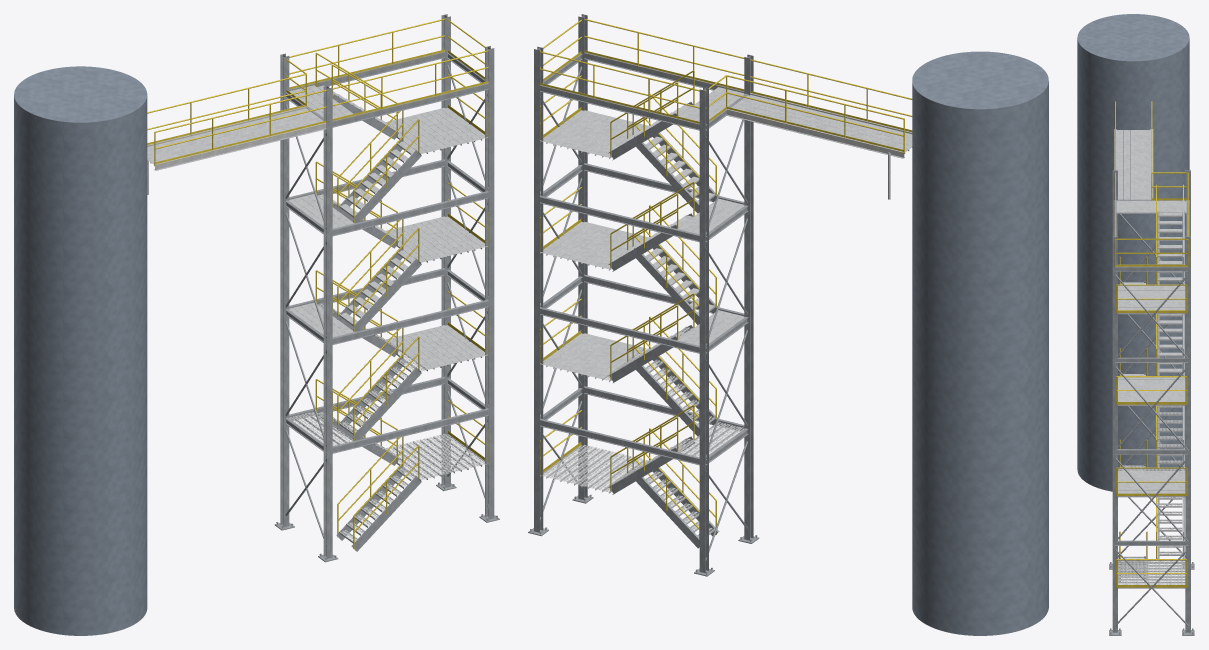
File: stair-towers-and-platforms.glb
3 renders of one model, left to right at view 1: azimuth 30°, elevation 25°; view 2: azimuth 150°, elevation 25°; view 3: azimuth 270°, elevation 25°, orthographic. The views are drawn at different scales.
Visible parts, largest first — view 1: Vessel(context), TowerFrame&Stringers, Landings, Handrails&ToePlates, Grip-StrutStairTreads, AccessPlatform; view 2: Vessel(context), TowerFrame&Stringers, Landings, Handrails&ToePlates, AccessPlatform, Grip-StrutStairTreads; view 3: Vessel(context), TowerFrame&Stringers, Landings, Handrails&ToePlates, Grip-StrutStairTreads, AccessPlatform.
Part boxes in pixels (left/top/right/bottom): Vessel(context): left=14, top=66, right=147, bottom=635; TowerFrame&Stringers: left=274, top=14, right=499, bottom=562; Landings: left=289, top=85, right=488, bottom=481; Handrails&ToePlates: left=147, top=18, right=488, bottom=549; Grip-StrutStairTreads: left=317, top=85, right=415, bottom=543; AccessPlatform: left=147, top=106, right=326, bottom=194; Vessel(context): left=912, top=51, right=1048, bottom=635; TowerFrame&Stringers: left=528, top=14, right=759, bottom=576; Landings: left=540, top=87, right=744, bottom=493; Handrails&ToePlates: left=540, top=18, right=912, bottom=546; AccessPlatform: left=726, top=93, right=912, bottom=199; Grip-StrutStairTreads: left=612, top=103, right=715, bottom=536; Vessel(context): left=1077, top=14, right=1189, bottom=491; TowerFrame&Stringers: left=1109, top=169, right=1194, bottom=635; Landings: left=1116, top=201, right=1186, bottom=588; Handrails&ToePlates: left=1114, top=101, right=1188, bottom=587; Grip-StrutStairTreads: left=1121, top=213, right=1182, bottom=575; AccessPlatform: left=1114, top=129, right=1153, bottom=200.
Bounding box in the file's own units: 16.02 × 17.1 × 4.17.
Materials: 4 (4 with a texture image).
